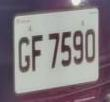0: (84, 26, 97, 69)
5: (60, 27, 73, 71)
7: (46, 29, 61, 73)
9: (72, 27, 85, 69)
F: (29, 31, 45, 74)
G: (16, 34, 32, 76)
